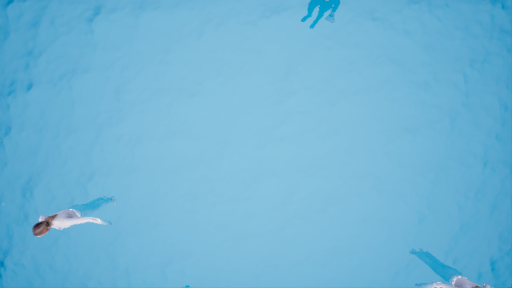person: (29, 192, 124, 242)
